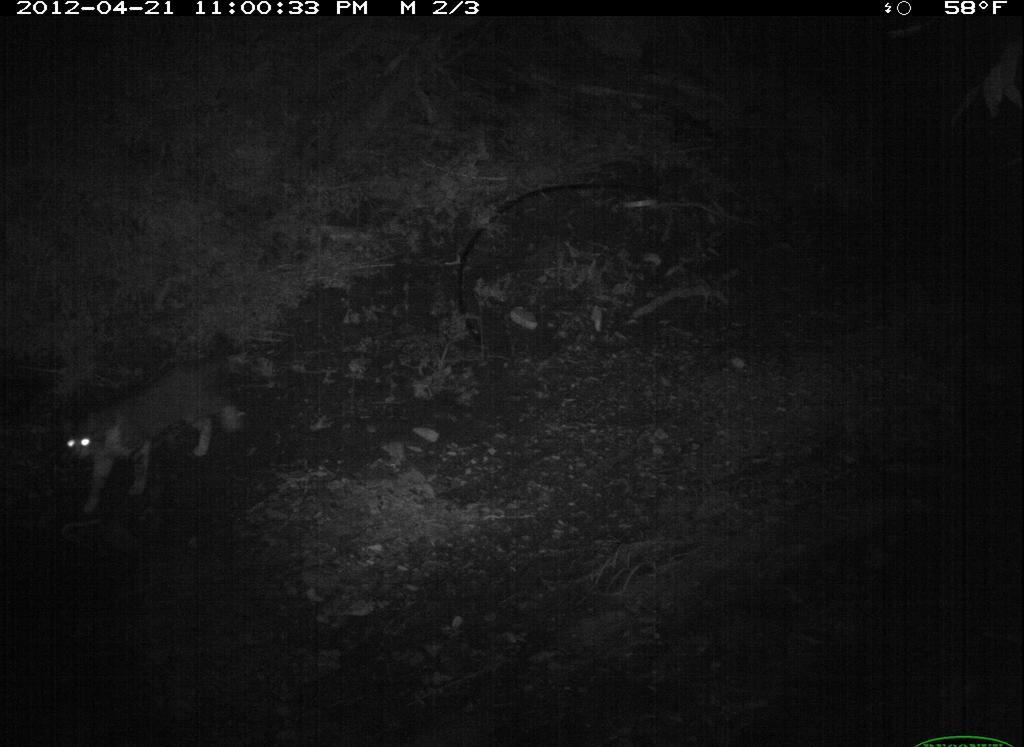cat: (58, 353, 249, 509)
